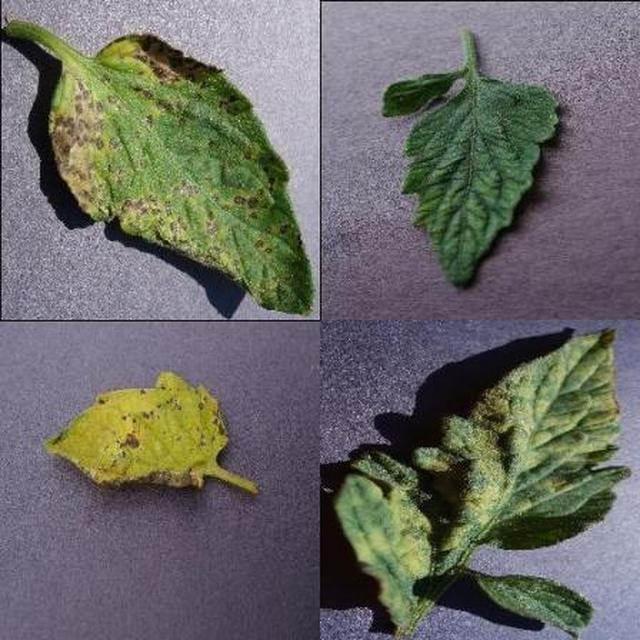Septoria Leaf: (193, 179, 640, 640)
